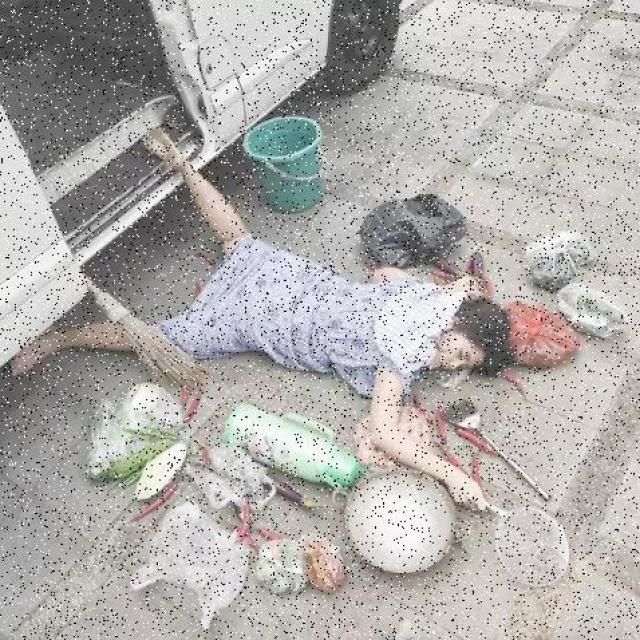fall: (122, 143, 514, 438)
